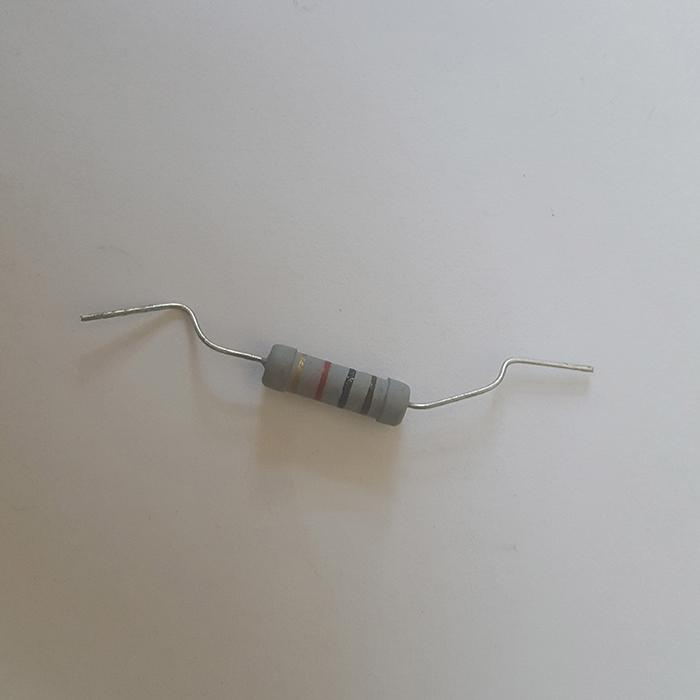resistor: (259, 342, 414, 426)
